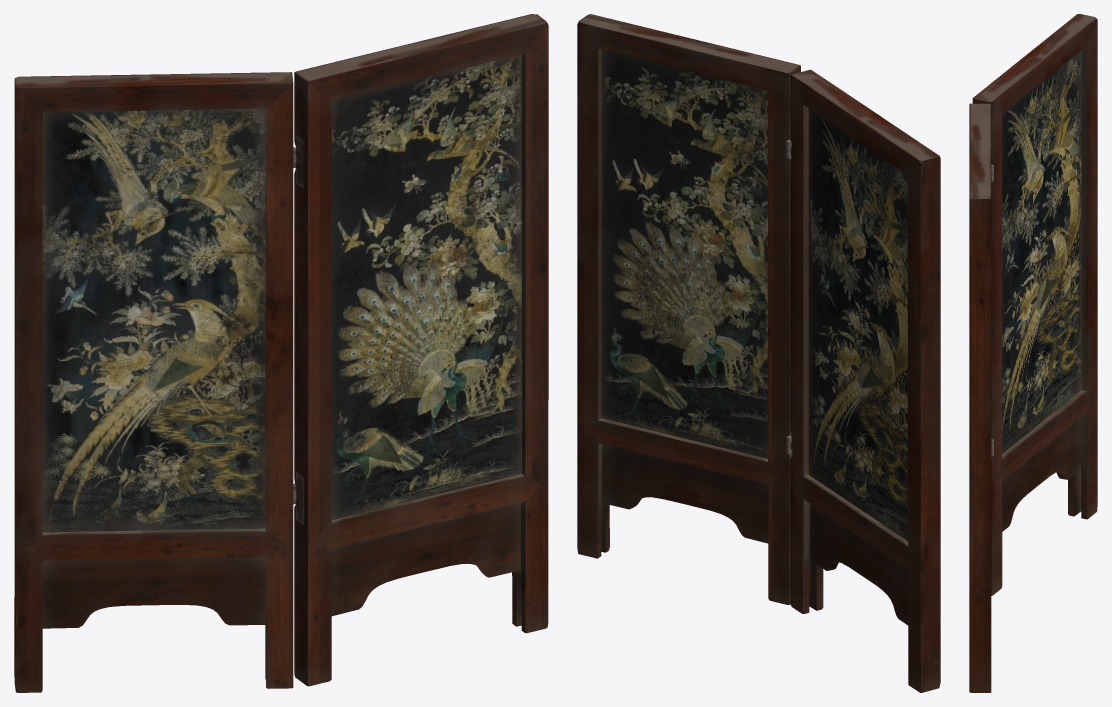
Rendered from chinese_screen_panels_1k.gltf.
3 renders of one model, left to right at view 1: azimuth 30°, elevation 25°; view 2: azimuth 150°, elevation 25°; view 3: azimuth 270°, elevation 25°, orthographic. The views are drawn at different scales.
Visible parts, largest first — view 1: chinese_screen_panels_b, chinese_screen_panels_a; view 2: chinese_screen_panels_a, chinese_screen_panels_b; view 3: chinese_screen_panels_b, chinese_screen_panels_a.
Boxes of the visible parts, <box> form: chinese_screen_panels_b: <box>14,72,295,692</box>; chinese_screen_panels_a: <box>293,14,548,686</box>; chinese_screen_panels_a: <box>577,14,800,604</box>; chinese_screen_panels_b: <box>786,69,940,692</box>; chinese_screen_panels_b: <box>972,14,1097,595</box>; chinese_screen_panels_a: <box>969,103,993,692</box>.
Bounding box in the file's own units: 1.29 × 1.6 × 0.3769.
1 material, 1 textured.
